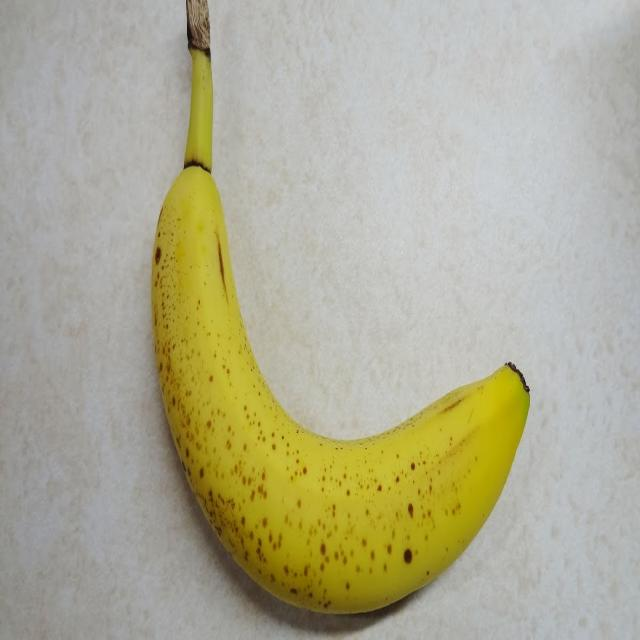Banana: (147, 10, 533, 631)
